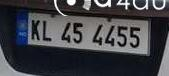4: (91, 23, 103, 45), (59, 21, 71, 42), (104, 24, 114, 46)
5: (128, 25, 140, 48), (71, 21, 83, 43), (115, 24, 127, 46)
K: (30, 18, 39, 39)
L: (40, 19, 51, 41)
